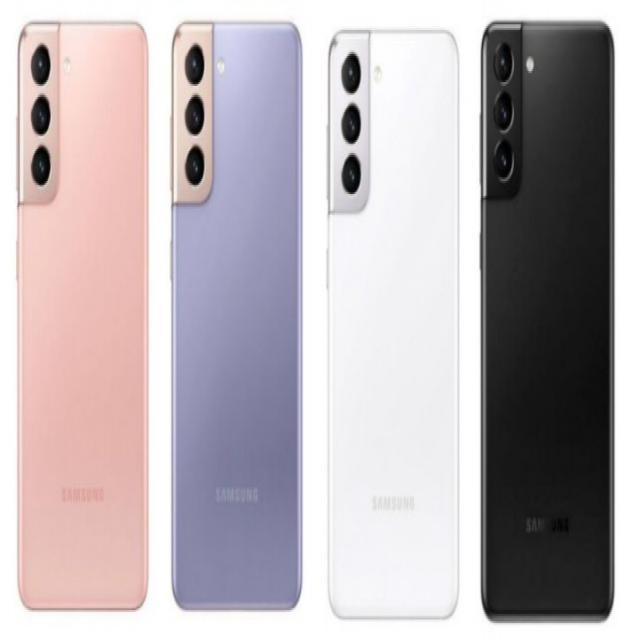phone: (482, 17, 614, 626), (328, 24, 460, 619), (17, 21, 150, 610), (171, 18, 303, 610)
